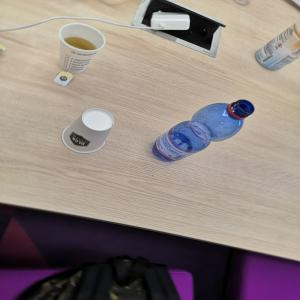Cup: (58, 23, 108, 75), (62, 109, 116, 156)
Plastic-bottle: (152, 100, 257, 164)
